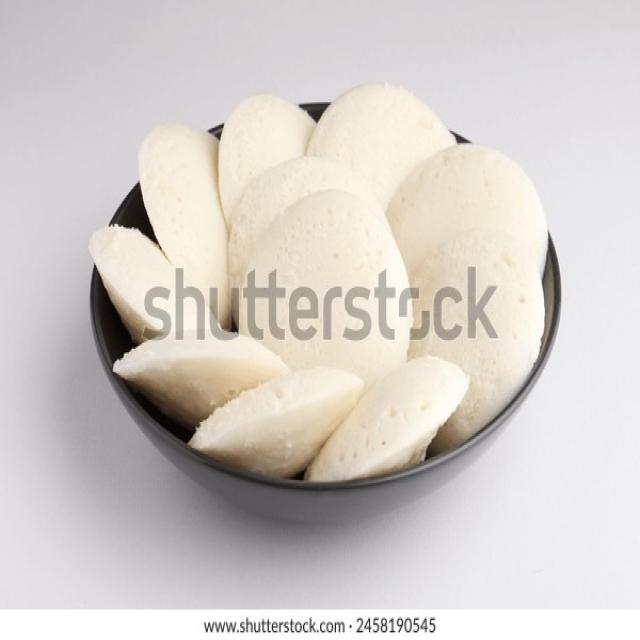IDLI: (86, 83, 558, 485)
